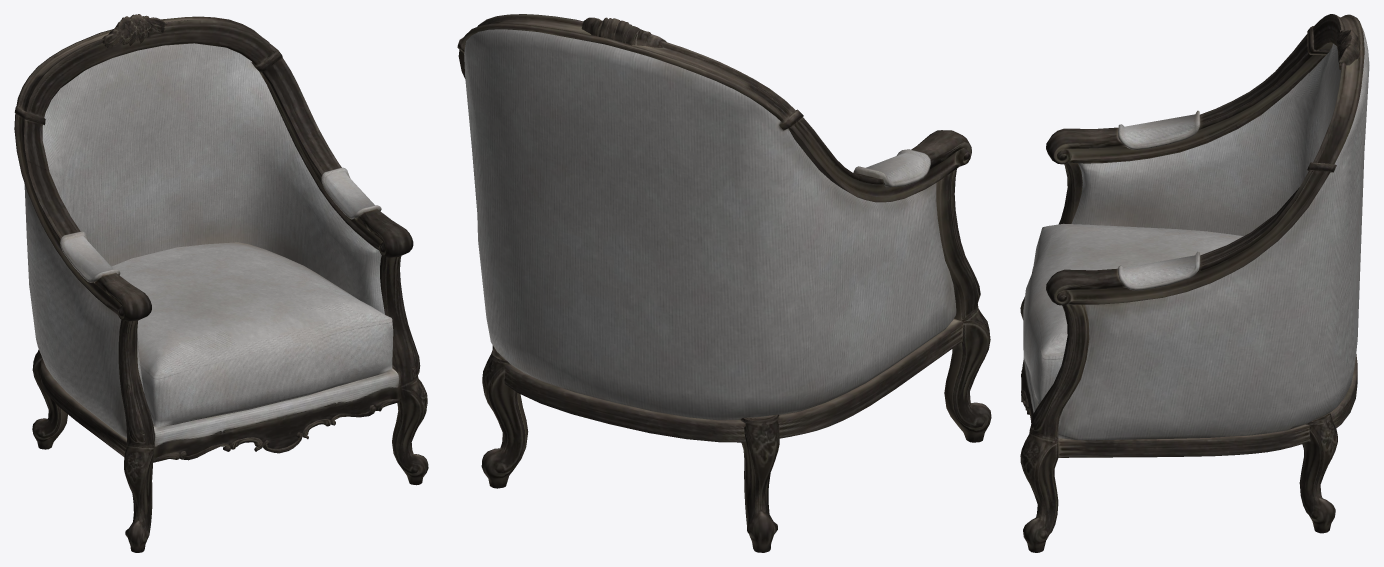
File: victorian-armchair.glb
3 renders of one model, left to right at view 1: azimuth 30°, elevation 25°; view 2: azimuth 150°, elevation 25°; view 3: azimuth 270°, elevation 25°, orthographic. The views are drawn at different scales.
Parts seen in each view (by area): view 1: ArmChair_01; view 2: ArmChair_01; view 3: ArmChair_01.
Boxes of the visible parts, x1,y1,x2,y2 form: ArmChair_01: (14, 14, 428, 552); ArmChair_01: (457, 14, 991, 552); ArmChair_01: (1020, 14, 1369, 552).
Size of the model in its own units: 0.8485 by 1.07 by 0.7658.
1 material, 1 textured.
